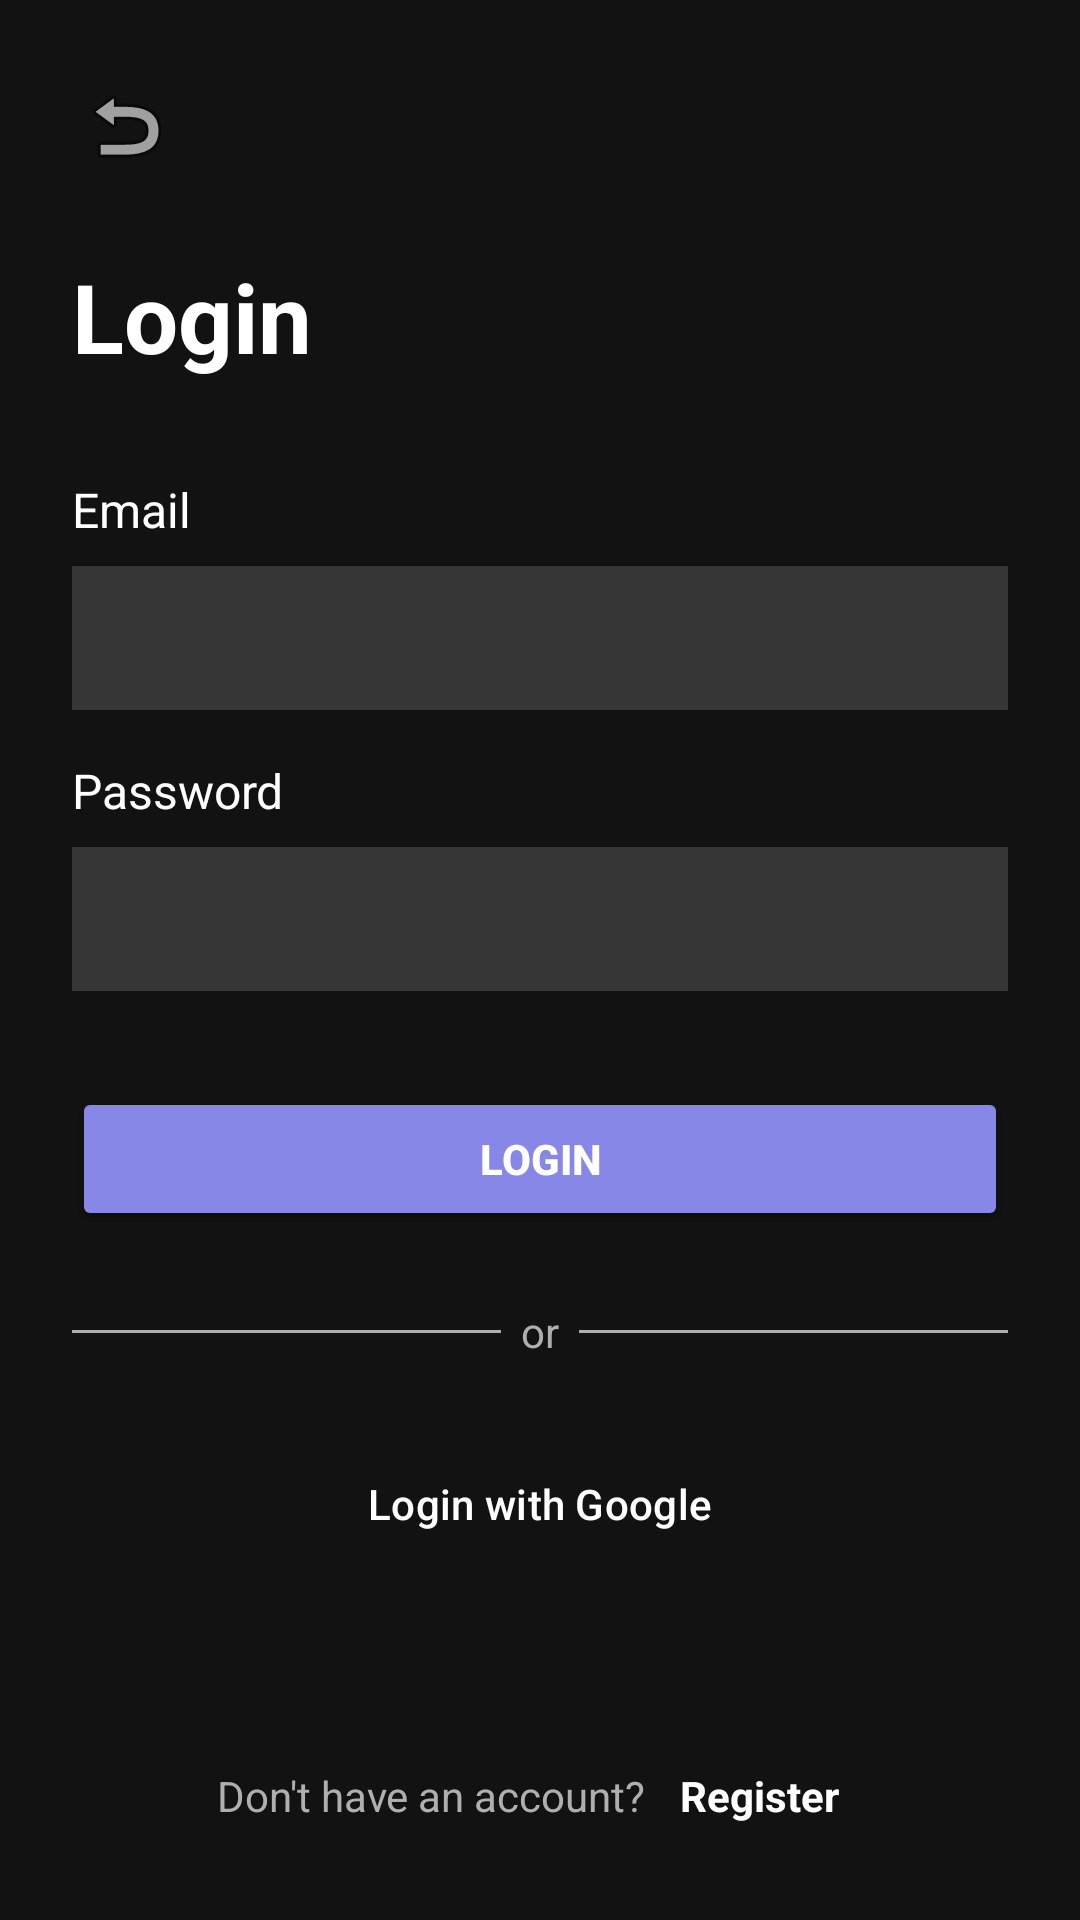

Icons on this 1080 × 1920 Android screen, each with the point to tap as point (x, y):
Back: point (127, 126)
